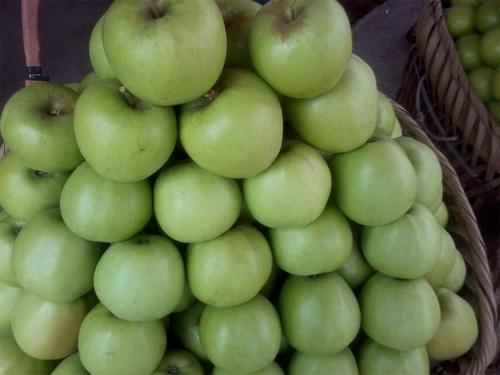unripe: (97, 0, 234, 106), (177, 63, 287, 183), (246, 0, 356, 103), (76, 76, 175, 183), (286, 53, 385, 149), (11, 202, 105, 299), (326, 133, 422, 226), (92, 229, 185, 324), (246, 134, 334, 234), (182, 222, 277, 311), (0, 78, 87, 173), (354, 268, 449, 351), (356, 198, 451, 279), (264, 198, 360, 278), (149, 165, 247, 242), (58, 164, 150, 245), (278, 273, 365, 358), (77, 298, 170, 375), (198, 296, 281, 374), (9, 289, 86, 362), (0, 146, 73, 222)
